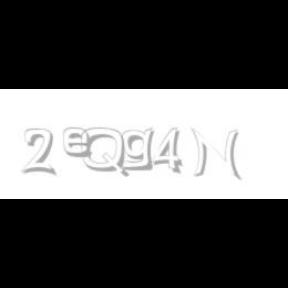2: (21, 128, 55, 176)
4: (152, 128, 182, 174)
N: (190, 128, 240, 180)
Q: (81, 128, 127, 178)
e: (64, 128, 97, 158)
g: (122, 128, 158, 171)
